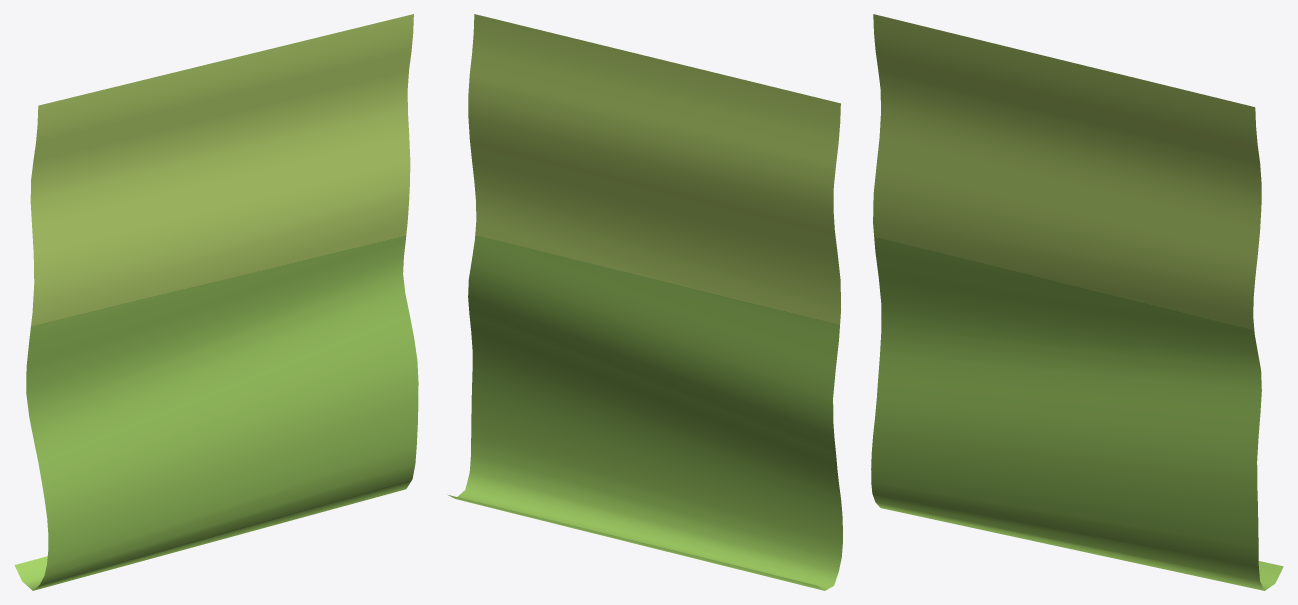
File: afiche_01.fbx
The picture shows the model from 3 angles, left to right: view 1: azimuth 30°, elevation 25°; view 2: azimuth 150°, elevation 25°; view 3: azimuth 330°, elevation 25°; orthographic projection. The views are drawn at different scales.
Parts seen in each view (by area): view 1: afiche_01; view 2: afiche_01; view 3: afiche_01.
Boxes of the visible parts, left/top/right/bottom form: afiche_01: left=14, top=14, right=418, bottom=590; afiche_01: left=447, top=14, right=842, bottom=590; afiche_01: left=871, top=14, right=1283, bottom=590.
Bounding box in the file's own units: 254 × 311 × 39.09.
